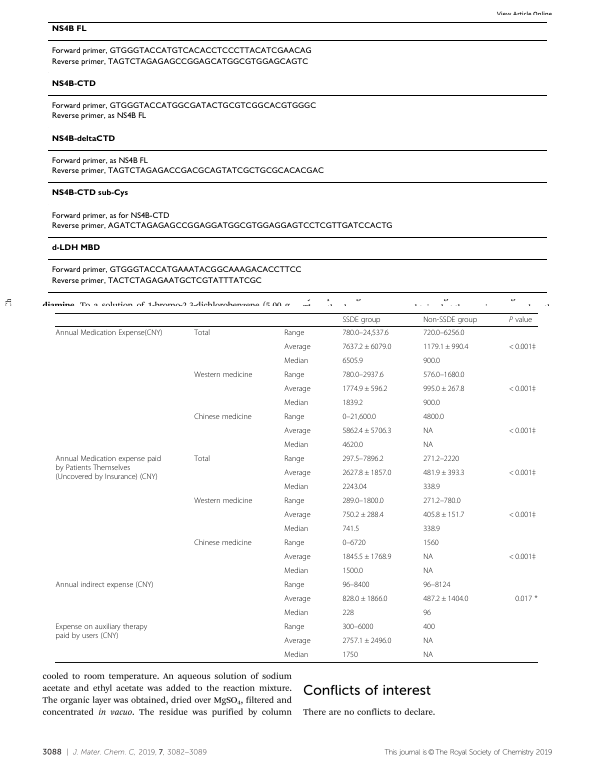borderless: (54, 311, 538, 662), (47, 20, 547, 292)
cell: (50, 221, 393, 231), (55, 454, 162, 482), (50, 166, 324, 176), (50, 101, 317, 111), (50, 57, 309, 67), (50, 47, 312, 56), (50, 266, 302, 275), (50, 276, 262, 286), (55, 622, 148, 641), (50, 211, 170, 221), (55, 328, 163, 338), (55, 580, 154, 590), (50, 156, 148, 166), (50, 112, 147, 121), (50, 189, 129, 198), (50, 134, 116, 144), (193, 370, 253, 380), (193, 496, 253, 506), (193, 412, 252, 422), (193, 538, 252, 548), (341, 342, 392, 352), (341, 426, 392, 436), (341, 468, 392, 478), (341, 552, 392, 562), (341, 636, 392, 646), (422, 315, 478, 324), (341, 328, 390, 338), (422, 342, 469, 352), (341, 384, 388, 394), (341, 594, 388, 604), (422, 594, 469, 604), (50, 79, 96, 89), (50, 244, 100, 253), (341, 510, 385, 520), (422, 328, 465, 338), (341, 370, 384, 380), (422, 370, 465, 380), (422, 384, 465, 394), (341, 454, 384, 464), (422, 468, 465, 478), (341, 496, 384, 506), (422, 510, 465, 520), (422, 496, 461, 506), (422, 454, 460, 464), (341, 315, 381, 324), (341, 412, 377, 422), (50, 25, 87, 34), (341, 622, 374, 632), (508, 342, 537, 352), (508, 384, 537, 394), (508, 426, 537, 436), (508, 468, 537, 478), (508, 510, 537, 520), (508, 552, 537, 562), (341, 580, 370, 590), (422, 580, 451, 590), (283, 342, 311, 352), (283, 384, 311, 394), (283, 426, 311, 436), (283, 468, 311, 478), (283, 510, 311, 520), (283, 552, 311, 562), (283, 594, 311, 604), (283, 636, 311, 646), (341, 482, 368, 492), (283, 356, 309, 366), (283, 398, 309, 408), (283, 440, 309, 450), (283, 482, 309, 492), (283, 524, 309, 534), (341, 538, 367, 548), (283, 566, 309, 576), (283, 608, 309, 618), (283, 650, 309, 660), (514, 594, 538, 604), (341, 356, 364, 366), (341, 398, 364, 408), (422, 412, 445, 422), (341, 440, 364, 450), (341, 566, 364, 576), (508, 315, 533, 324), (283, 328, 305, 338), (283, 370, 305, 380), (283, 412, 305, 422), (283, 454, 305, 464), (283, 496, 305, 506), (283, 538, 305, 548), (283, 580, 305, 590), (283, 622, 305, 632), (422, 356, 441, 366), (422, 398, 441, 408), (422, 482, 441, 492), (341, 524, 360, 534), (422, 524, 441, 534), (193, 328, 211, 338), (193, 454, 211, 464), (422, 538, 440, 548), (341, 650, 359, 660), (341, 608, 355, 618), (422, 622, 436, 632), (422, 426, 434, 436), (422, 440, 434, 450), (422, 552, 434, 562), (422, 566, 434, 576), (422, 636, 434, 646), (422, 650, 434, 660), (422, 608, 432, 618)
